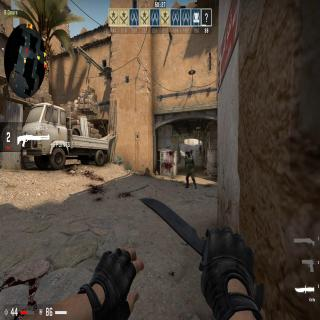CT-Body: (185, 150, 197, 191), (199, 144, 203, 157), (190, 148, 193, 157)
CT-Head: (186, 150, 190, 158), (199, 144, 202, 148), (191, 148, 193, 150)
